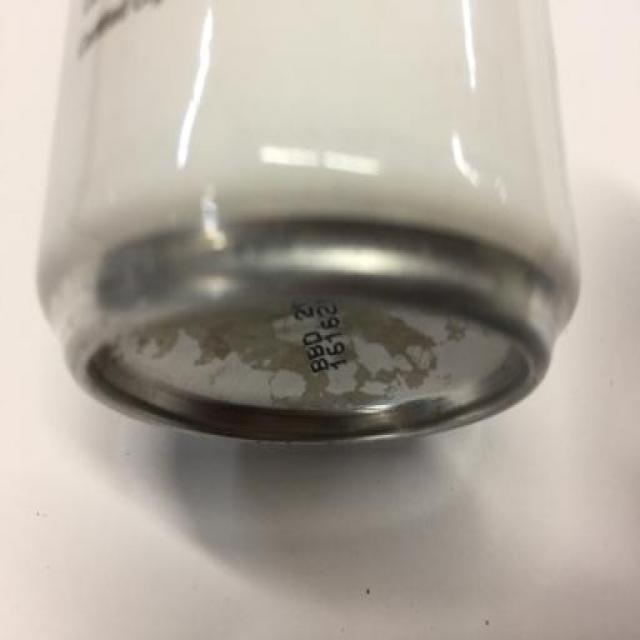plastic_bottle: (35, 1, 591, 434)
